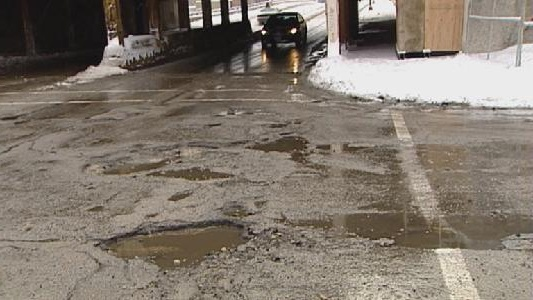pothole: (93, 216, 256, 271), (337, 207, 532, 252), (80, 152, 180, 180), (243, 131, 310, 155), (147, 164, 236, 181)
